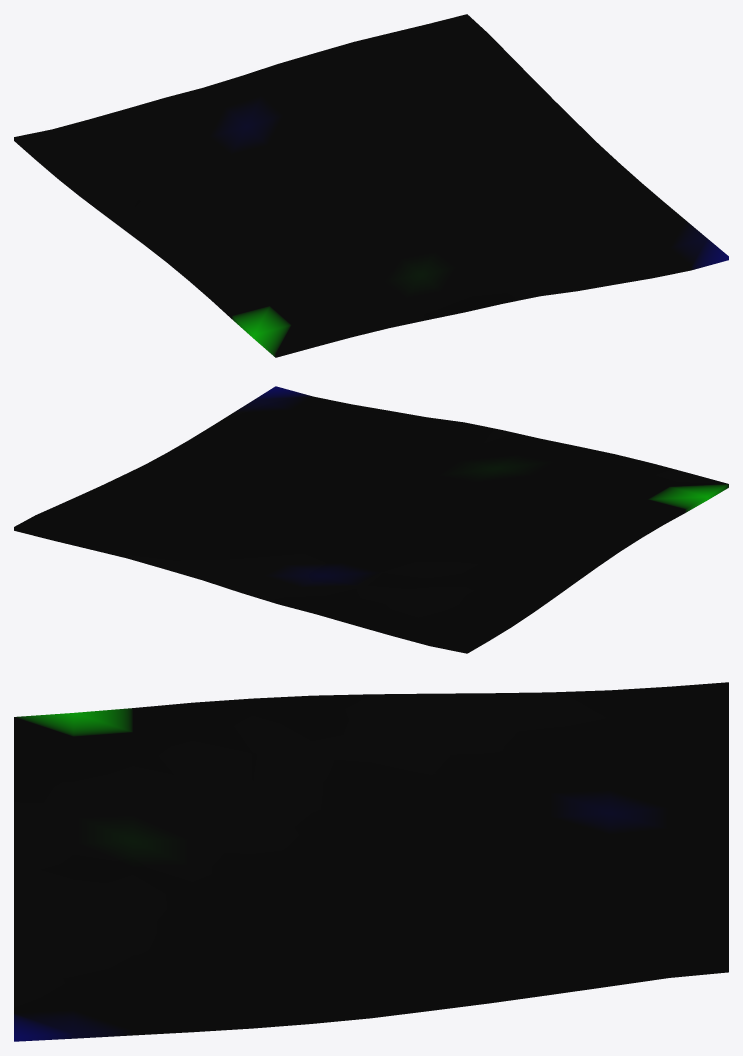
Rendered from coast_19_1.glb.
3 renders of one model, top to bottom at view 1: azimuth 30°, elevation 25°; view 2: azimuth 150°, elevation 25°; view 3: azimuth 270°, elevation 25°, orthographic. The views are drawn at different scales.
Visible parts, largest first — view 1: terrain; view 2: terrain; view 3: terrain.
Part boxes in pixels (<box>): terrain: <box>14,14,728,357</box>; terrain: <box>14,386,728,653</box>; terrain: <box>14,682,728,1041</box>.
Size of the model in its own units: 192 by 22.52 by 192.
